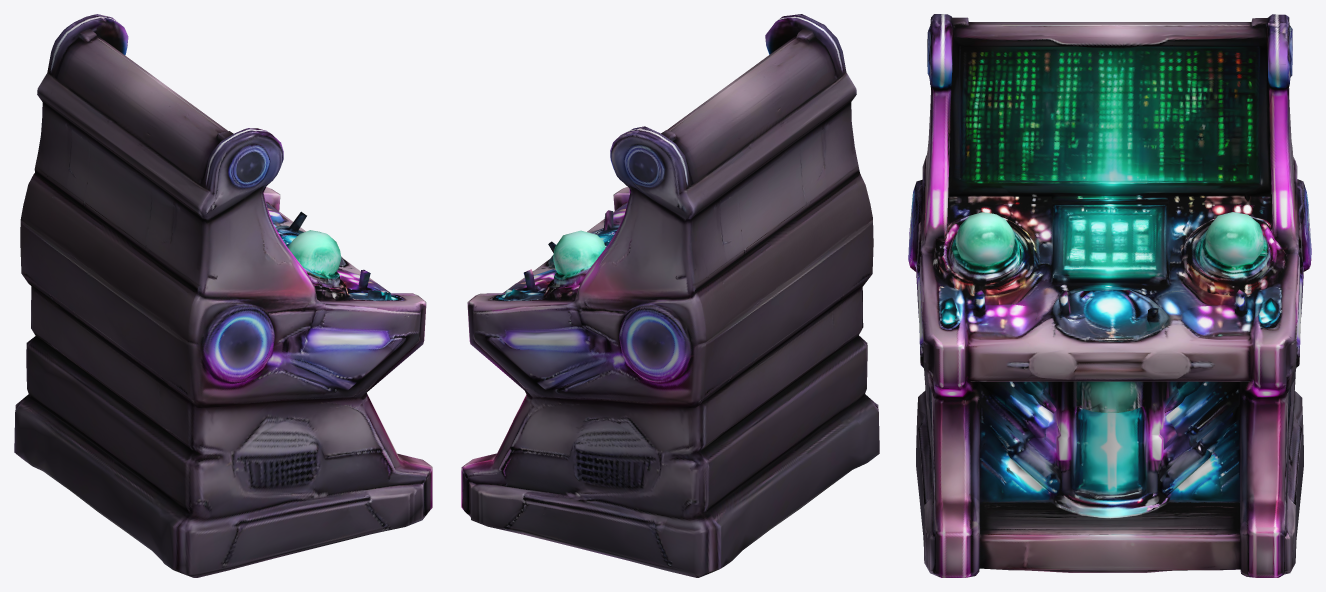
File: tripo_convert_d4c774cc-adfe-4518-9466-03cc51ef6951.fbx
The picture shows the model from 3 angles, left to right: view 1: azimuth 30°, elevation 25°; view 2: azimuth 150°, elevation 25°; view 3: azimuth 270°, elevation 25°; orthographic projection. The views are drawn at different scales.
Parts seen in each view (by area): view 1: tripo_node_d4c774cc; view 2: tripo_node_d4c774cc; view 3: tripo_node_d4c774cc.
Part boxes in pixels (x1,y1,x2,y2): tripo_node_d4c774cc: [14, 14, 432, 577]; tripo_node_d4c774cc: [461, 14, 879, 577]; tripo_node_d4c774cc: [908, 14, 1311, 577].
Size of the model in its own units: 0.641 by 0.9999 by 0.7849.
Materials: 1 (1 with a texture image).
